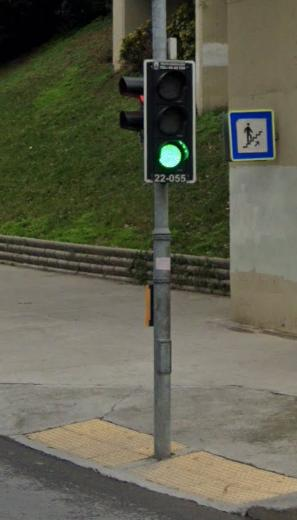greenlight: (142, 57, 199, 179)
